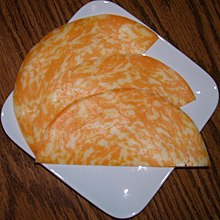cheese: (28, 24, 209, 170)
